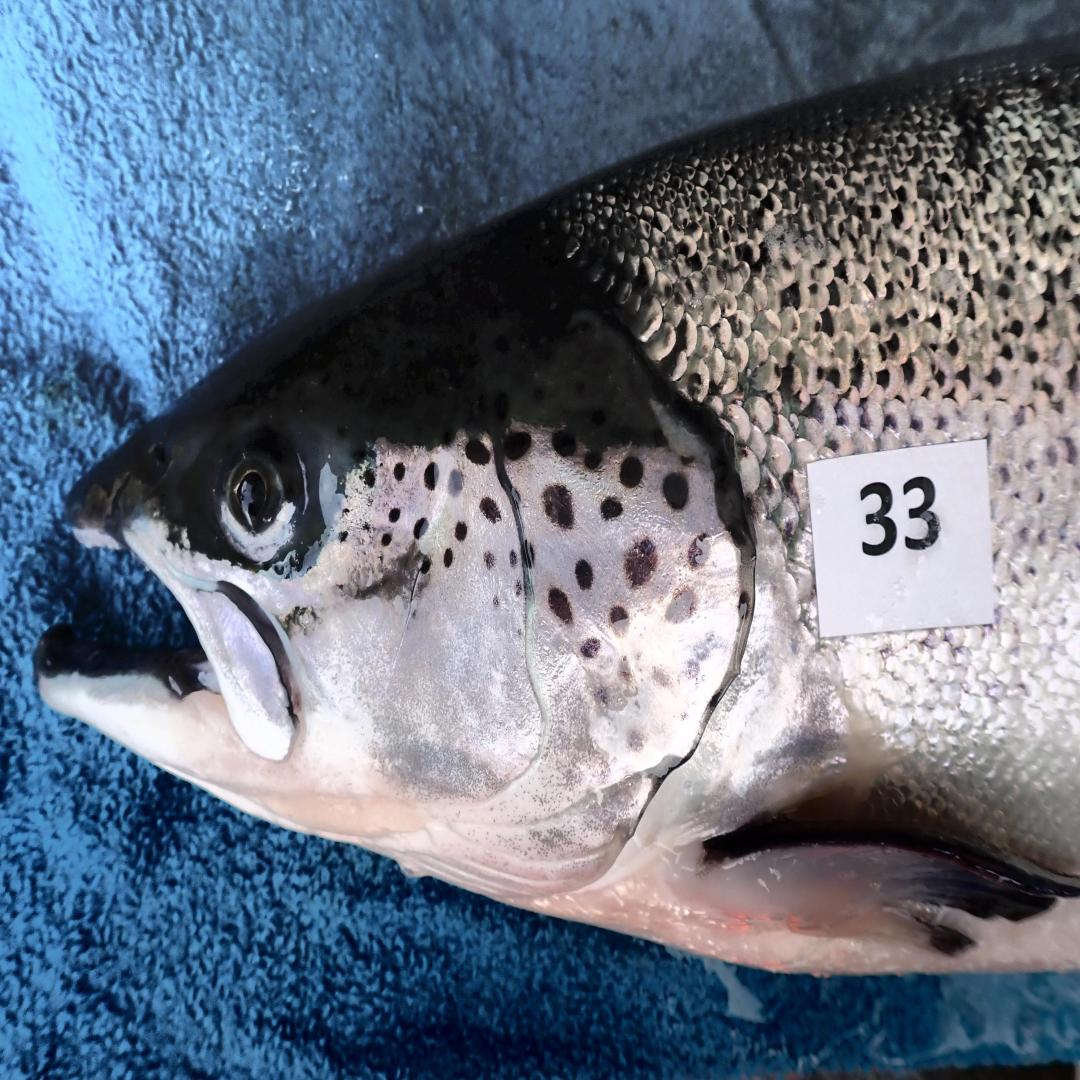spot: (624, 537, 658, 588), (542, 484, 574, 529), (664, 588, 694, 624), (662, 472, 688, 509), (548, 588, 574, 624), (688, 532, 713, 568), (504, 430, 532, 461), (620, 456, 643, 487), (553, 430, 578, 458), (610, 605, 631, 638), (464, 439, 491, 464), (356, 515, 380, 540), (479, 498, 502, 523), (576, 560, 593, 591), (580, 636, 601, 658), (601, 498, 622, 520), (447, 470, 464, 495), (424, 461, 439, 489), (737, 592, 750, 621), (523, 540, 536, 568), (618, 657, 632, 683), (584, 450, 601, 470), (510, 577, 525, 599), (413, 518, 428, 540), (363, 464, 375, 487), (382, 526, 394, 548), (456, 520, 468, 540), (483, 551, 496, 568), (388, 506, 401, 523), (508, 548, 519, 568), (443, 548, 454, 568), (394, 461, 405, 481), (420, 557, 432, 574), (596, 689, 607, 704), (491, 593, 500, 608), (339, 531, 348, 542), (342, 507, 349, 515)
